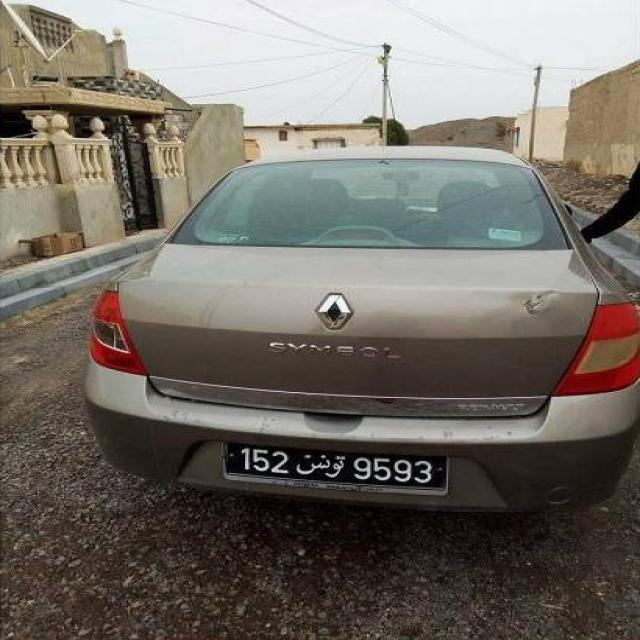licence plate: (221, 442, 450, 490)
